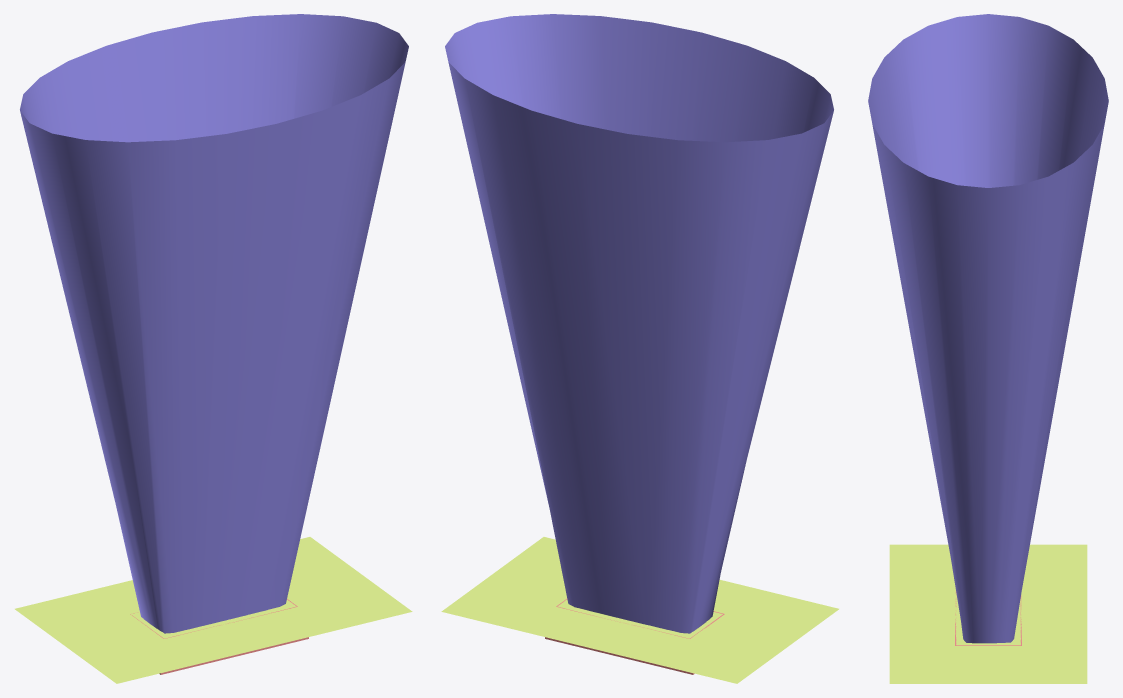
The model's file is Light_DengPian7_1X1_on.FBX.
The picture shows the model from 3 angles, left to right: view 1: azimuth 30°, elevation 25°; view 2: azimuth 150°, elevation 25°; view 3: azimuth 270°, elevation 25°; orthographic projection. The views are drawn at different scales.
Parts seen in each view (by area): view 1: Box002; view 2: Box002; view 3: Box002.
Boxes of the visible parts, left/top/right/bottom form: Box002: left=15, top=14, right=412, bottom=683; Box002: left=441, top=14, right=838, bottom=683; Box002: left=868, top=14, right=1108, bottom=683.
Size of the model in its own units: 2.5 by 3.64 by 1.46.
